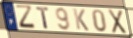0: (91, 9, 108, 33)
9: (55, 7, 71, 31)
K: (72, 8, 90, 32)
T: (36, 7, 50, 30)
X: (107, 8, 128, 35)
Z: (15, 4, 38, 30)
